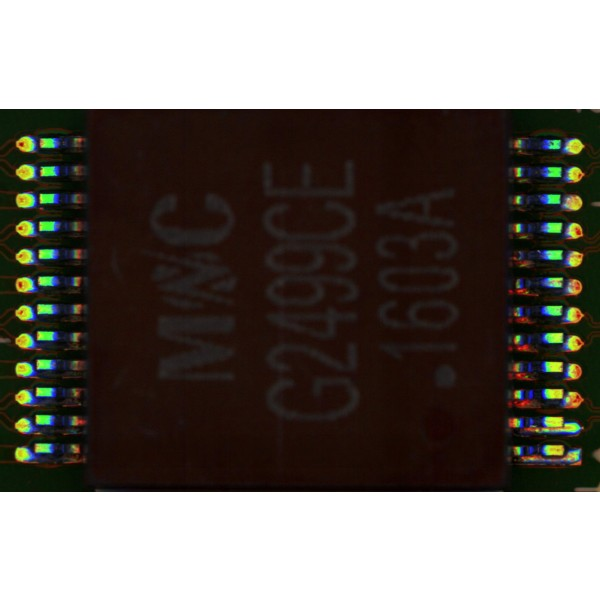Bad_qiaojiao: (520, 456, 564, 463), (527, 427, 564, 433)
